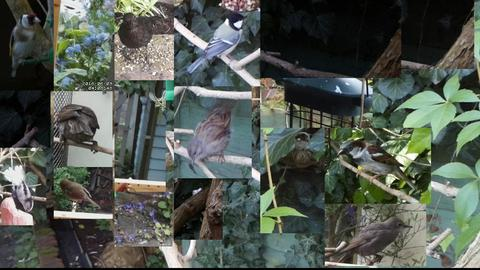blackbird: (118, 12, 162, 68)
dunnock: (186, 99, 239, 166)
goldfinch: (9, 12, 41, 78)
great tit: (186, 12, 248, 74)
long tailed tit: (16, 160, 34, 213)
robin: (57, 180, 100, 208)
sparrow: (337, 140, 418, 191)
starling: (337, 216, 414, 266), (58, 104, 100, 154)
